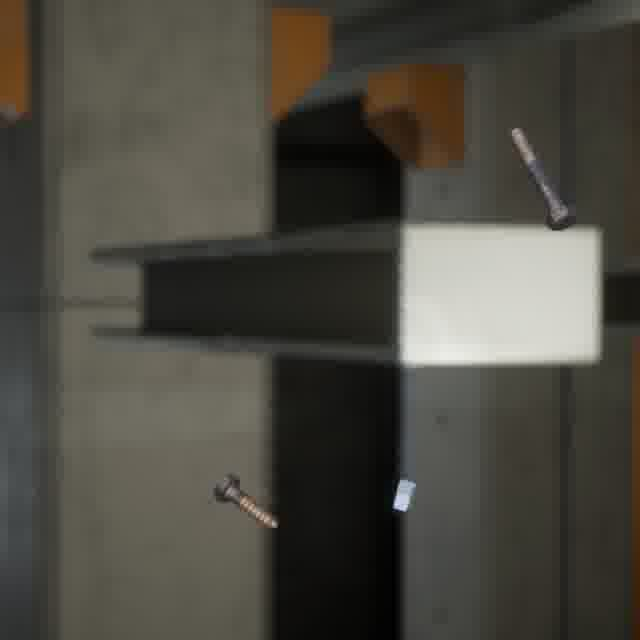bolt: (504, 123, 582, 235), (209, 470, 282, 534)
nut: (388, 474, 419, 516)
